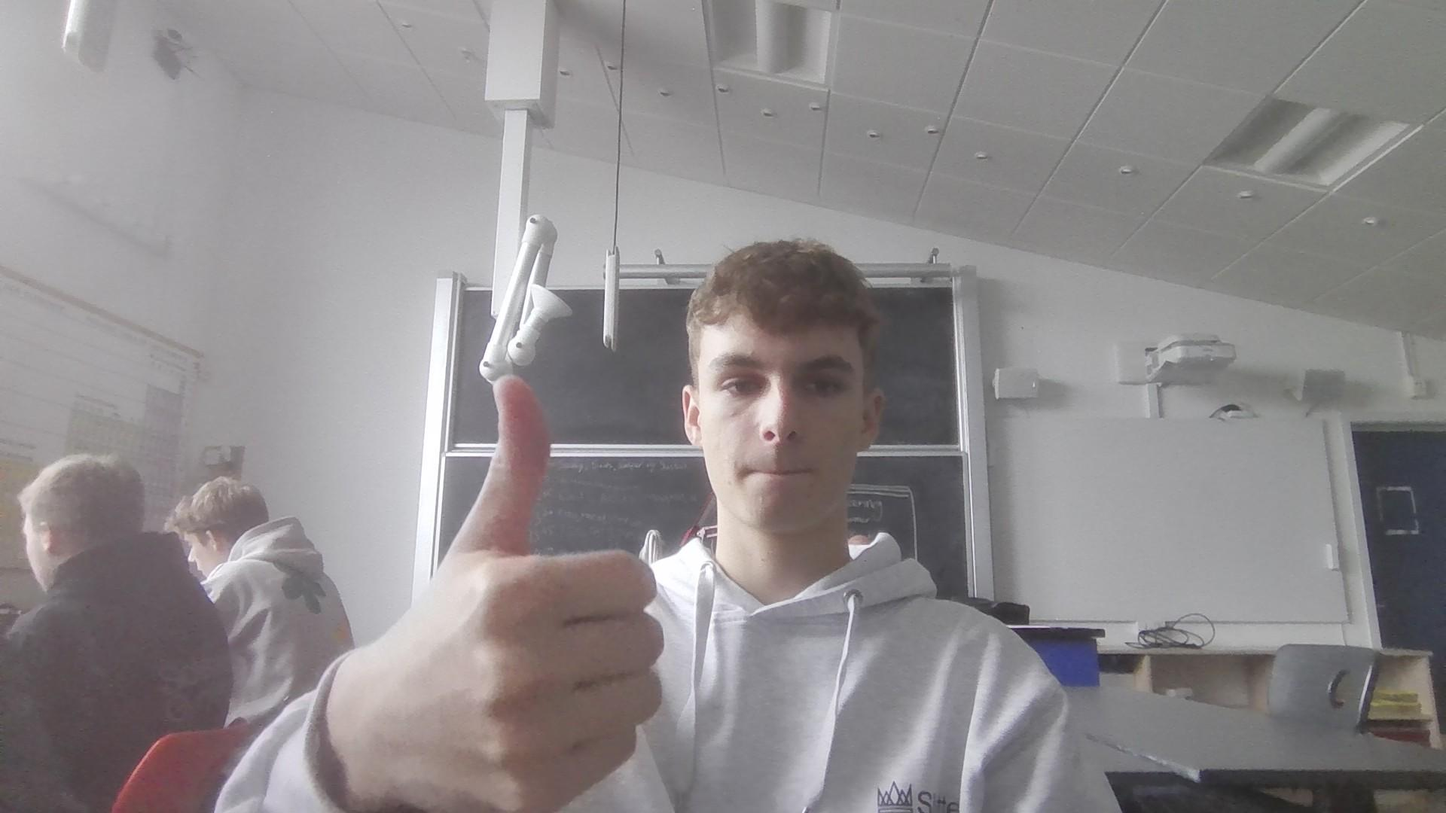thumbs up: (335, 371, 672, 805)
